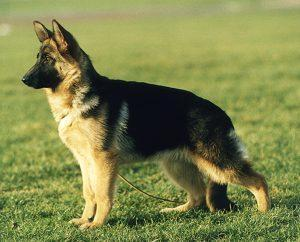German_shepherd: (21, 19, 270, 230)
